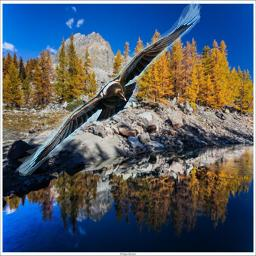Crow: (15, 0, 204, 176)
